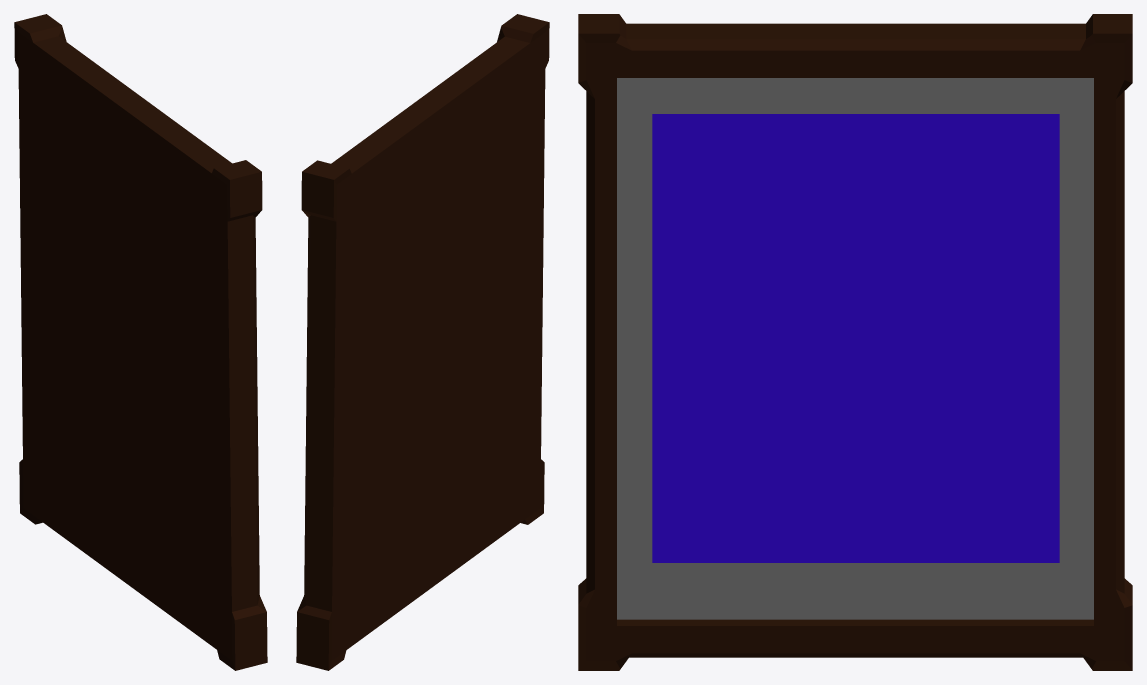
File: Wall_Picture_Frame_Updated.fbx
3 renders of one model, left to right at view 1: azimuth 30°, elevation 25°; view 2: azimuth 150°, elevation 25°; view 3: azimuth 270°, elevation 25°, orthographic. The views are drawn at different scales.
Parts seen in each view (by area): view 1: Picture_Frame_And_Wall_Fixed:WallPictureFrame:pCube2; view 2: Picture_Frame_And_Wall_Fixed:WallPictureFrame:pCube2; view 3: Picture_Frame_And_Wall_Fixed:WallPictureFrame:pCube2.
Part boxes in pixels (x1,y1,x2,y2): Picture_Frame_And_Wall_Fixed:WallPictureFrame:pCube2: (14,14,267,670); Picture_Frame_And_Wall_Fixed:WallPictureFrame:pCube2: (296,14,549,670); Picture_Frame_And_Wall_Fixed:WallPictureFrame:pCube2: (578,14,1132,670).
Size of the model in its own units: 0.1416 by 1.77 by 1.4.
